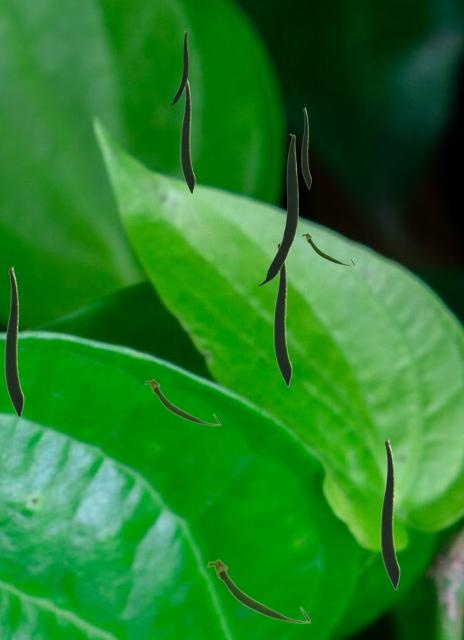french_bean: (206, 558, 310, 623), (256, 134, 297, 285), (144, 378, 220, 425), (4, 266, 23, 417), (380, 438, 399, 589), (273, 241, 291, 386), (301, 232, 354, 265), (180, 77, 194, 193), (169, 31, 187, 105), (301, 107, 310, 188)
